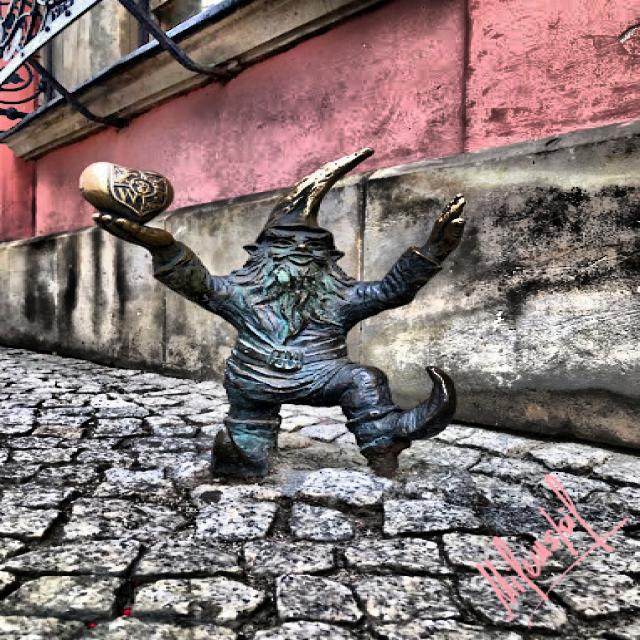WrocLovek: (75, 138, 473, 479)
